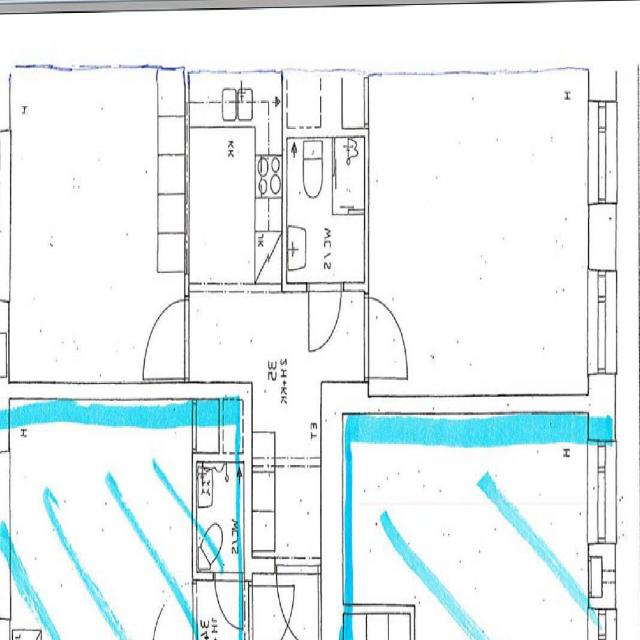door: (365, 298, 413, 378), (142, 302, 190, 379), (277, 557, 319, 640), (309, 283, 342, 349)
